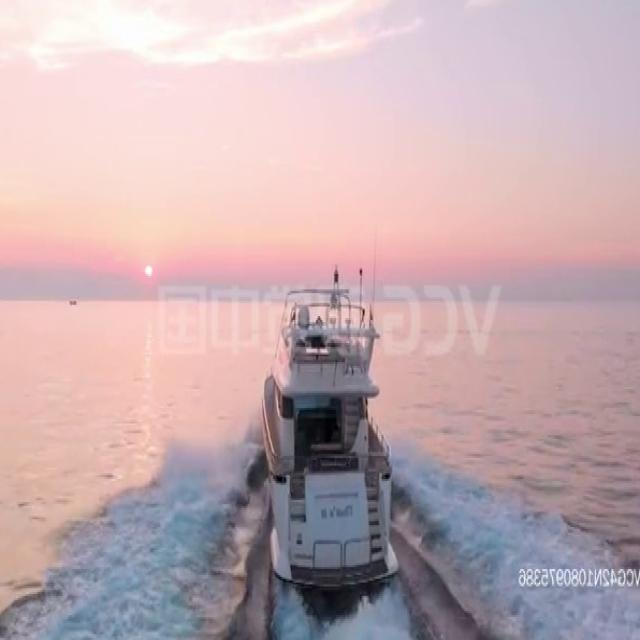houseboat: (263, 266, 393, 592)
